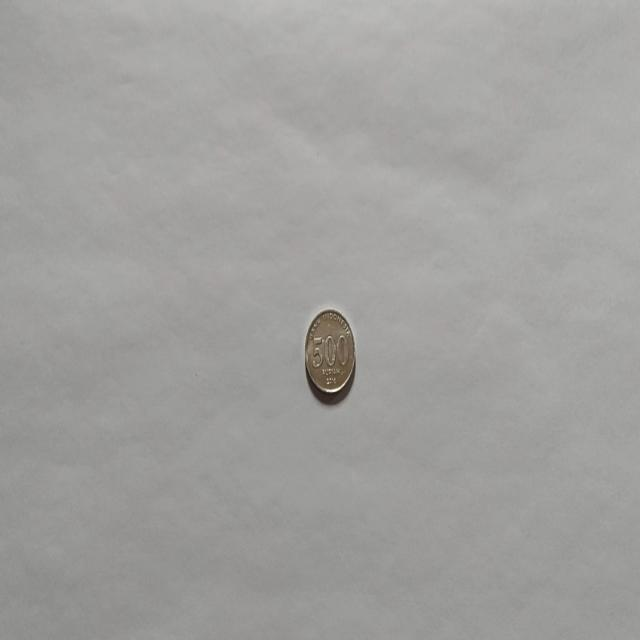lima ratus rupiah: (304, 307, 356, 397)
